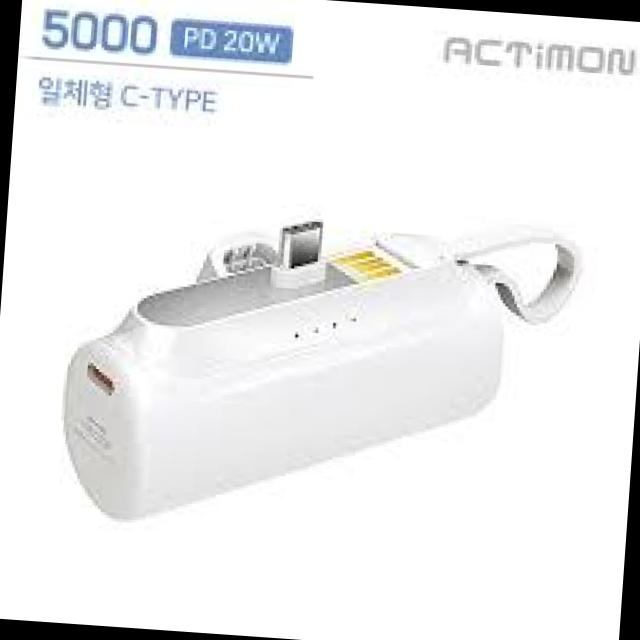power_bank: (51, 195, 523, 556)
